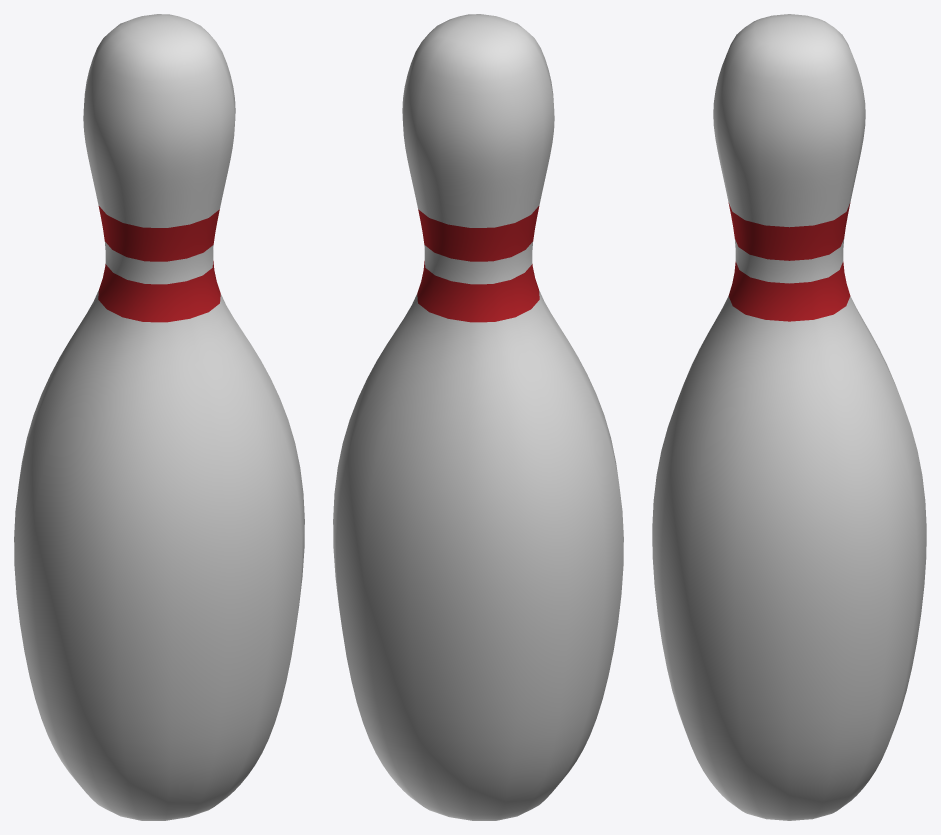
Rendered from Bowling Pin.fbx.
3 renders of one model, left to right at view 1: azimuth 30°, elevation 25°; view 2: azimuth 150°, elevation 25°; view 3: azimuth 270°, elevation 25°, orthographic.
Visible parts, largest first — view 1: Cube.002; view 2: Cube.002; view 3: Cube.002.
Boxes of the visible parts, x1=… form: Cube.002: x1=14, y1=14, x2=304, y2=820; Cube.002: x1=333, y1=14, x2=623, y2=820; Cube.002: x1=652, y1=14, x2=926, y2=820.
Bounding box in the file's own units: 57.53 × 169 × 54.01.
